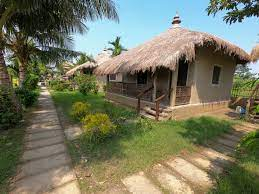Mud House: (105, 19, 241, 122)
